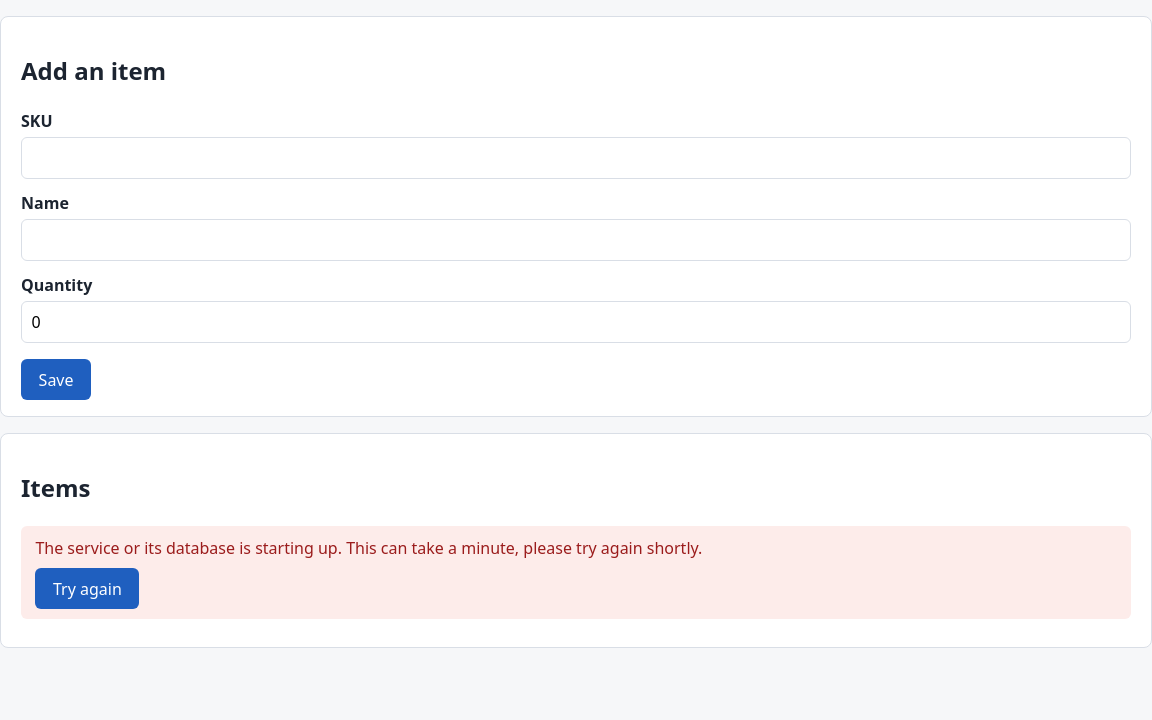
ItemsPage › shows a load failure with a working Try again button
This screenshot has width=1152, height=720.
Expected: the text "starting up" is shown, [35,537,702,559]
Click the button "Try again" at (87, 589), box [35,568,139,609]
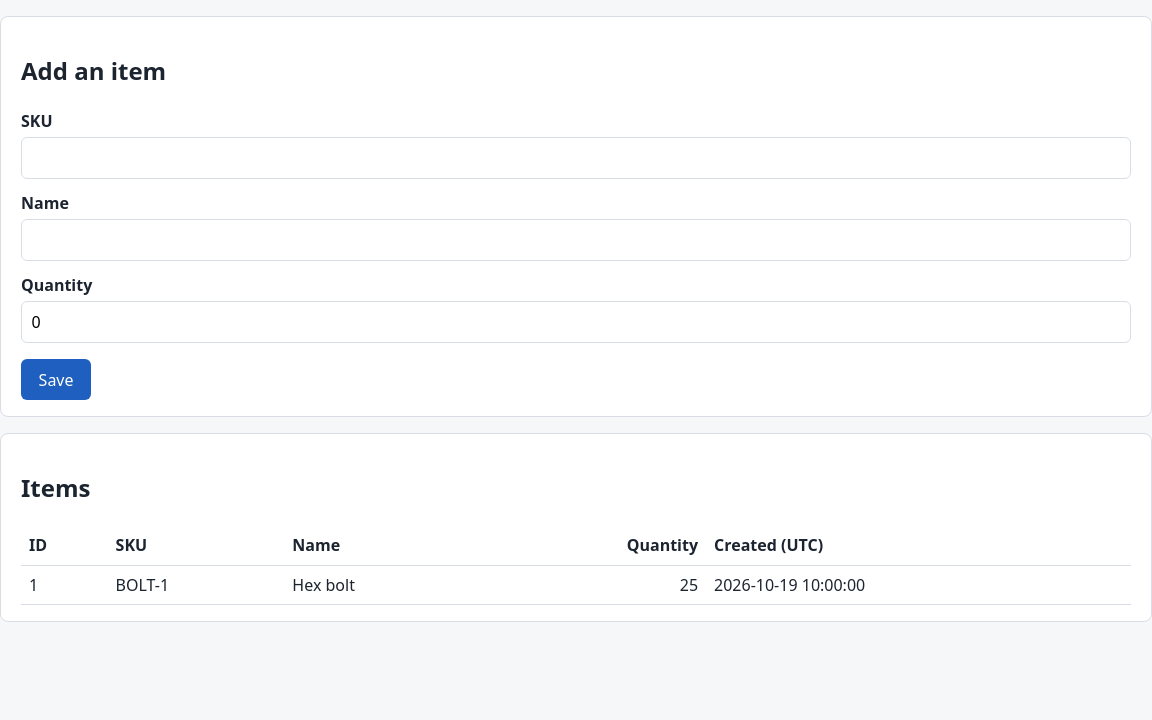
Result: the text "BOLT-1" is shown at [108,565,284,604]
Result: the text "starting up" is gone
